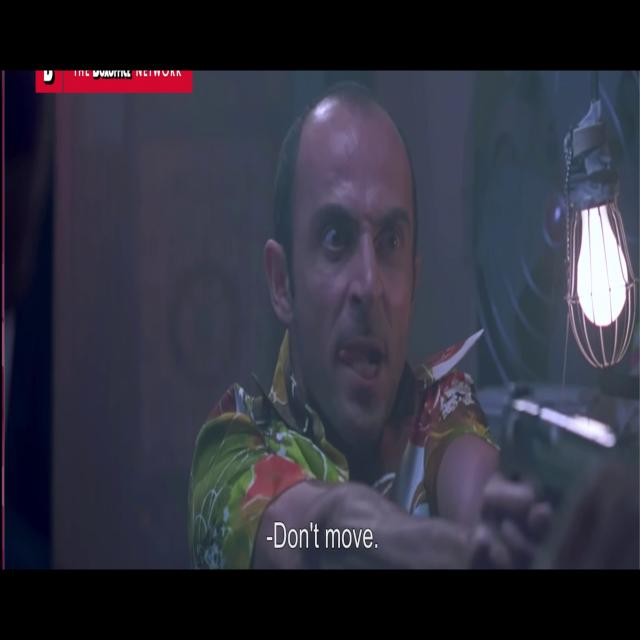weapons: (474, 353, 626, 560)
